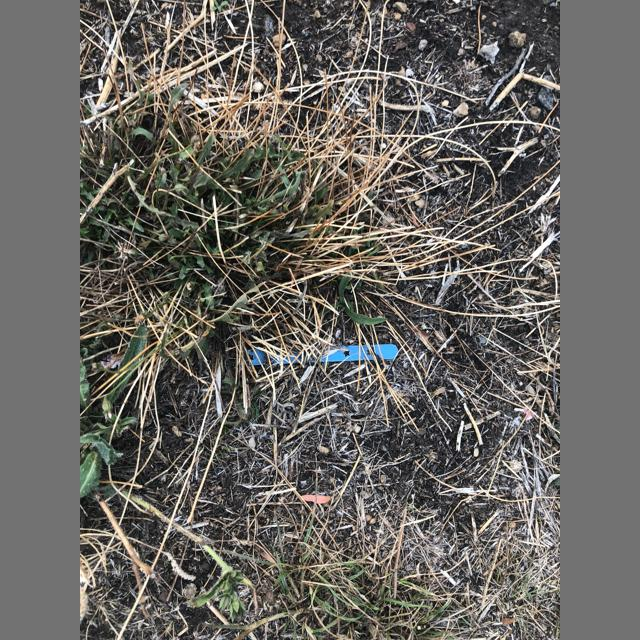litter: (248, 344, 397, 365)
